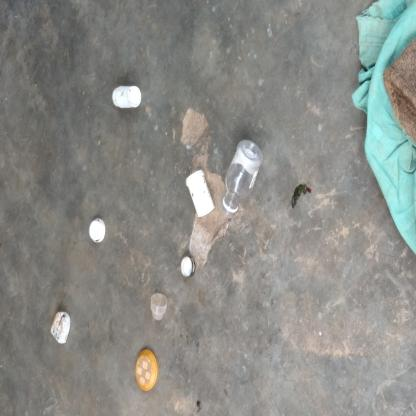bottle: (146, 295, 210, 352)
